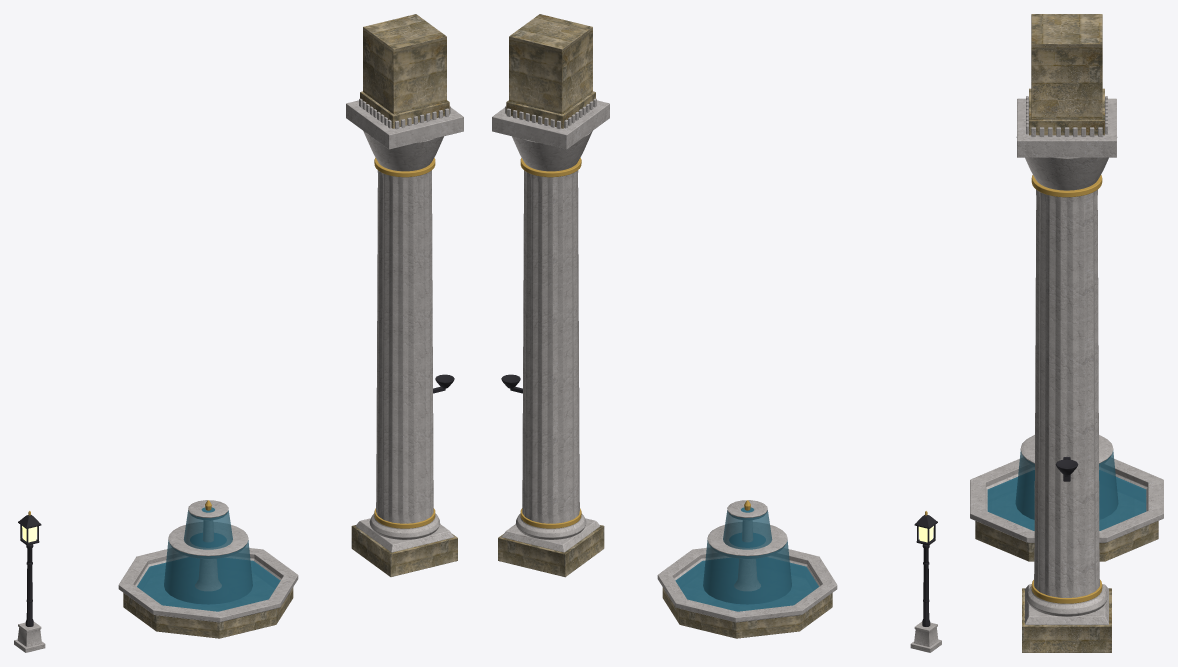
The model's file is props.glb.
The picture shows the model from 3 angles, left to right: view 1: azimuth 30°, elevation 25°; view 2: azimuth 150°, elevation 25°; view 3: azimuth 270°, elevation 25°; orthographic projection. The views are drawn at different scales.
Parts seen in each view (by area): view 1: Pillar_Body, Fountain_Body, Fountain_Water, Lamp_Body; view 2: Pillar_Body, Fountain_Body, Fountain_Water, Lamp_Body; view 3: Pillar_Body, Fountain_Body, Fountain_Water.
Boxes of the visible parts, x1,y1,x2,y2 form: Pillar_Body: (346,14,463,576); Fountain_Body: (118,500,298,638); Fountain_Water: (137,507,280,611); Lamp_Body: (14,511,45,652); Pillar_Body: (492,14,609,577); Fountain_Body: (657,500,837,638); Fountain_Water: (675,507,818,611); Lamp_Body: (910,511,941,652); Pillar_Body: (1016,14,1117,652); Fountain_Body: (970,435,1163,561); Fountain_Water: (987,450,1146,530).
Bounding box in the file's own units: 12.14 × 14 × 4.07.
6 materials, 2 textured.
